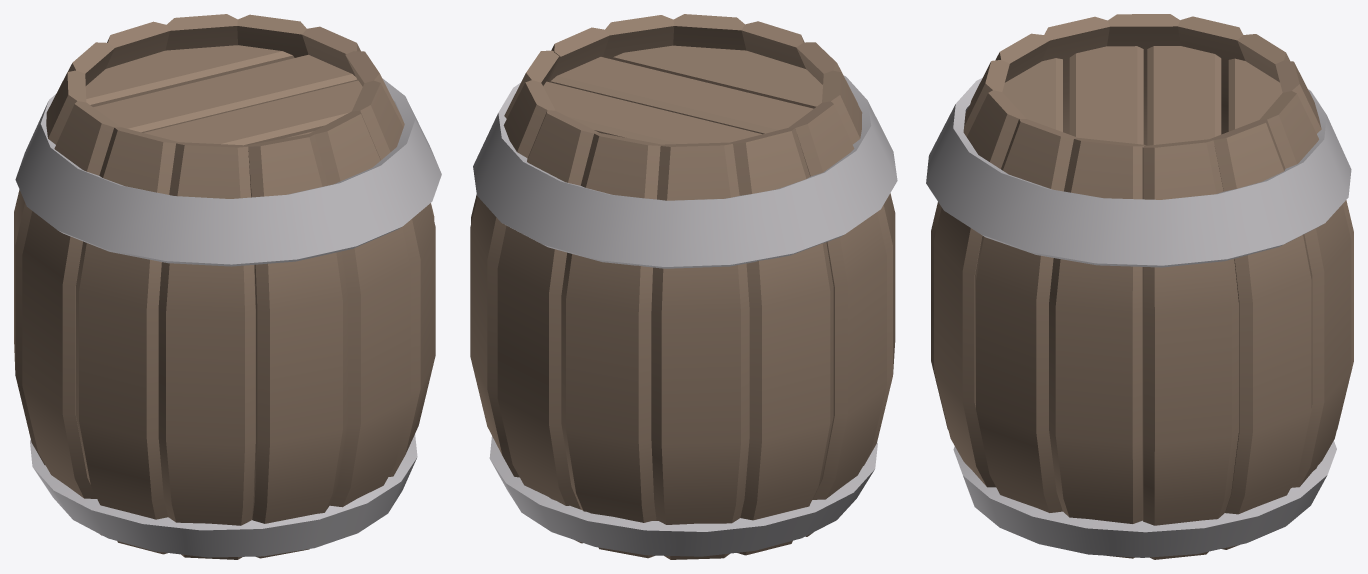
Rendered from barrel zilver.fbx.
3 views of the same model, side by side, from view 1: azimuth 30°, elevation 25°; view 2: azimuth 150°, elevation 25°; view 3: azimuth 270°, elevation 25° (orthographic).
Visible parts, largest first — view 1: pasted__pasted__pasted__polySurface61; view 2: pasted__pasted__pasted__polySurface61; view 3: pasted__pasted__pasted__polySurface61.
Boxes of the visible parts, box(x1,y1,x2,y2) form: pasted__pasted__pasted__polySurface61: box(14, 14, 441, 559); pasted__pasted__pasted__polySurface61: box(470, 14, 897, 559); pasted__pasted__pasted__polySurface61: box(926, 14, 1353, 559).
Size of the model in its own units: 1.56 by 1.67 by 1.57.
